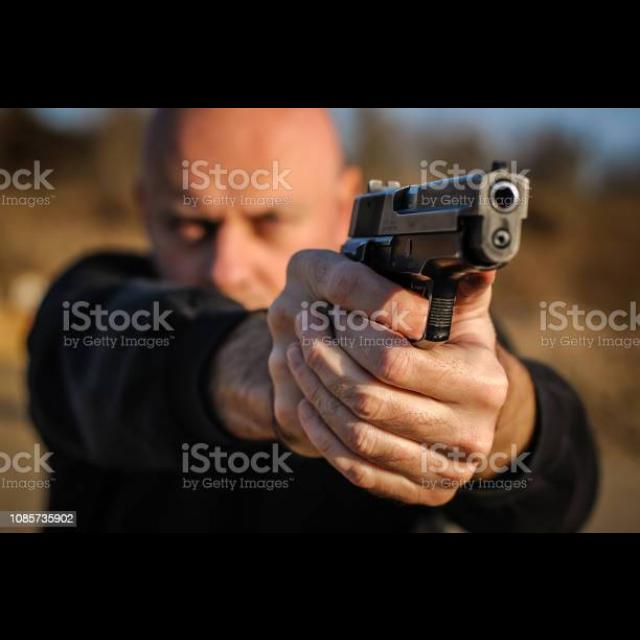handgun: (336, 156, 536, 352)
